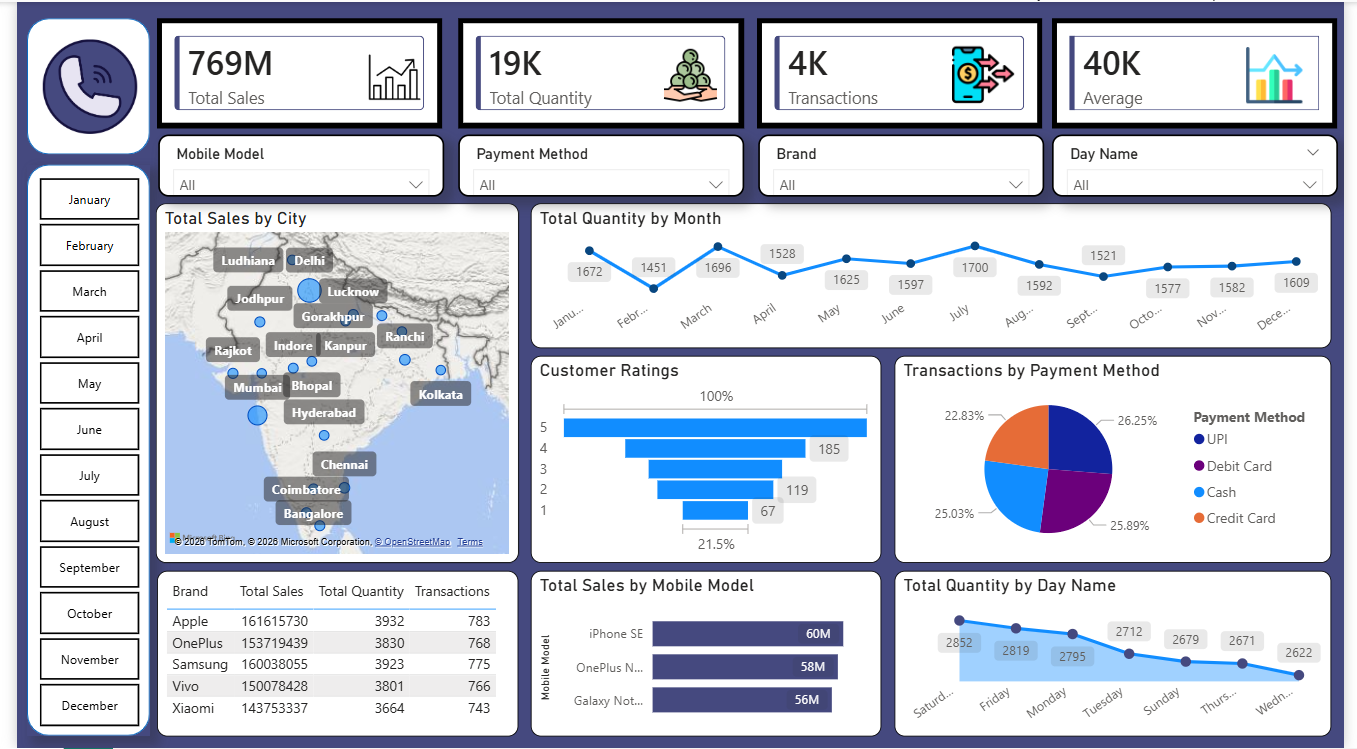

Layout of this report page (visuals, bound fields, positions):
{"tool":"powerbi","page":{"name":"Page 1","canvas":[1280,720],"ordinal":0},"visuals":[{"type":"shape","box":[10,15.7,118.6,131.4],"z":0},{"type":"shape","box":[10,157.1,118.6,551.4],"z":1000},{"type":"image","box":[14.3,35.7,111.4,91.4],"z":2000},{"type":"slicer","fields":{"Values":["Mobile_Data.Date.Variation.Date Hierarchy.Month"]},"box":[1.4,167.1,135.7,532.9],"z":3000},{"type":"cardVisual","fields":{"Data":["Mobile_Data.Total Sales"]},"box":[135.7,15.7,275,106],"z":4000},{"type":"cardVisual","fields":{"Data":["Mobile_Data.Total Quantity"]},"box":[425.7,15.7,275.7,106],"z":5000},{"type":"cardVisual","fields":{"Data":["Mobile_Data.Transactions"]},"box":[714.3,15.7,275,106],"z":6000},{"type":"cardVisual","fields":{"Data":["Mobile_Data.Average"]},"box":[998.6,15.7,275,106],"z":7000},{"type":"map","fields":{"Category":["Mobile_Data.City"],"Size":["Mobile_Data.Total Sales"]},"box":[134.3,194.3,350,347.1],"z":8000},{"type":"image","box":[332.9,40,62.9,65.7],"z":9000},{"type":"image","box":[600,42.9,101.4,54.3],"z":10000},{"type":"image","box":[902.9,38.6,60,62.9],"z":11000},{"type":"image","box":[1177.1,42.9,71.4,54.3],"z":12000},{"type":"lineChart","fields":{"Category":["Mobile_Data.Date.Variation.Date Hierarchy.Month","Mobile_Data.Date.Variation.Date Hierarchy.Day"],"Y":["Mobile_Data.Total Quantity"]},"box":[495.7,194.3,772.9,140],"z":13000},{"type":"clusteredBarChart","fields":{"Category":["Mobile_Data.Mobile Model"],"Y":["Mobile_Data.Total Sales"]},"box":[495.7,548.6,338.6,160],"z":14000},{"type":"pieChart","fields":{"Category":["Mobile_Data.Payment Method"],"Y":["Mobile_Data.Transactions"]},"box":[847.1,341.4,421.4,200],"z":15000},{"type":"funnel","title":"Customer Ratings","fields":{"Category":["Mobile_Data.Customer Ratings"],"Y":["CountNonNull(Mobile_Data.Customer Ratings)"]},"box":[495.7,341.4,338.6,200],"z":16000},{"type":"areaChart","fields":{"Category":["Mobile_Data.Day Name"],"Y":["Mobile_Data.Total Quantity"]},"box":[847.1,548.6,421.4,160],"z":17000},{"type":"tableEx","fields":{"Values":["Mobile_Data.Brand","Mobile_Data.Total Sales","Mobile_Data.Total Quantity","Mobile_Data.Transactions"]},"box":[135.7,548.6,348.6,160],"z":18000},{"type":"slicer","fields":{"Values":["Mobile_Data.Mobile Model"]},"box":[135.8,127.6,275.8,60],"z":19000},{"type":"slicer","fields":{"Values":["Mobile_Data.Payment Method"]},"box":[425.4,127.6,275.8,60.4],"z":19001},{"type":"slicer","fields":{"Values":["Mobile_Data.Brand"]},"box":[714.9,127.6,275.8,60.4],"z":19002},{"type":"slicer","fields":{"Values":["Mobile_Data.Day Name"]},"box":[999,127.6,275.8,60.4],"z":19003}]}

Visuals, with their boxes in screenshot pixels (x1, y1, x2, y2), scaled from the page's 1280x720 canvas onto the 1357x749 screenshot:
shape: [11, 16, 136, 153]
shape: [11, 163, 136, 737]
image: [15, 37, 133, 132]
slicer - Mobile_Data.Date.Variation.Date Hierarchy.Month: [1, 174, 145, 728]
cardVisual - Mobile_Data.Total Sales: [144, 16, 435, 127]
cardVisual - Mobile_Data.Total Quantity: [451, 16, 744, 127]
cardVisual - Mobile_Data.Transactions: [757, 16, 1049, 127]
cardVisual - Mobile_Data.Average: [1059, 16, 1350, 127]
map - Mobile_Data.City x Mobile_Data.Total Sales: [142, 202, 513, 563]
image: [353, 42, 420, 110]
image: [636, 45, 744, 101]
image: [957, 40, 1021, 106]
image: [1248, 45, 1324, 101]
lineChart - Mobile_Data.Date.Variation.Date Hierarchy.Month x Mobile_Data.Date.Variation.Date Hierarchy.Day: [526, 202, 1345, 348]
clusteredBarChart - Mobile_Data.Mobile Model x Mobile_Data.Total Sales: [526, 571, 884, 737]
pieChart - Mobile_Data.Payment Method x Mobile_Data.Transactions: [898, 355, 1345, 563]
"Customer Ratings" funnel: [526, 355, 884, 563]
areaChart - Mobile_Data.Day Name x Mobile_Data.Total Quantity: [898, 571, 1345, 737]
tableEx - Mobile_Data.Brand x Mobile_Data.Total Sales: [144, 571, 513, 737]
slicer - Mobile_Data.Mobile Model: [144, 133, 436, 195]
slicer - Mobile_Data.Payment Method: [451, 133, 743, 196]
slicer - Mobile_Data.Brand: [758, 133, 1050, 196]
slicer - Mobile_Data.Day Name: [1059, 133, 1351, 196]
